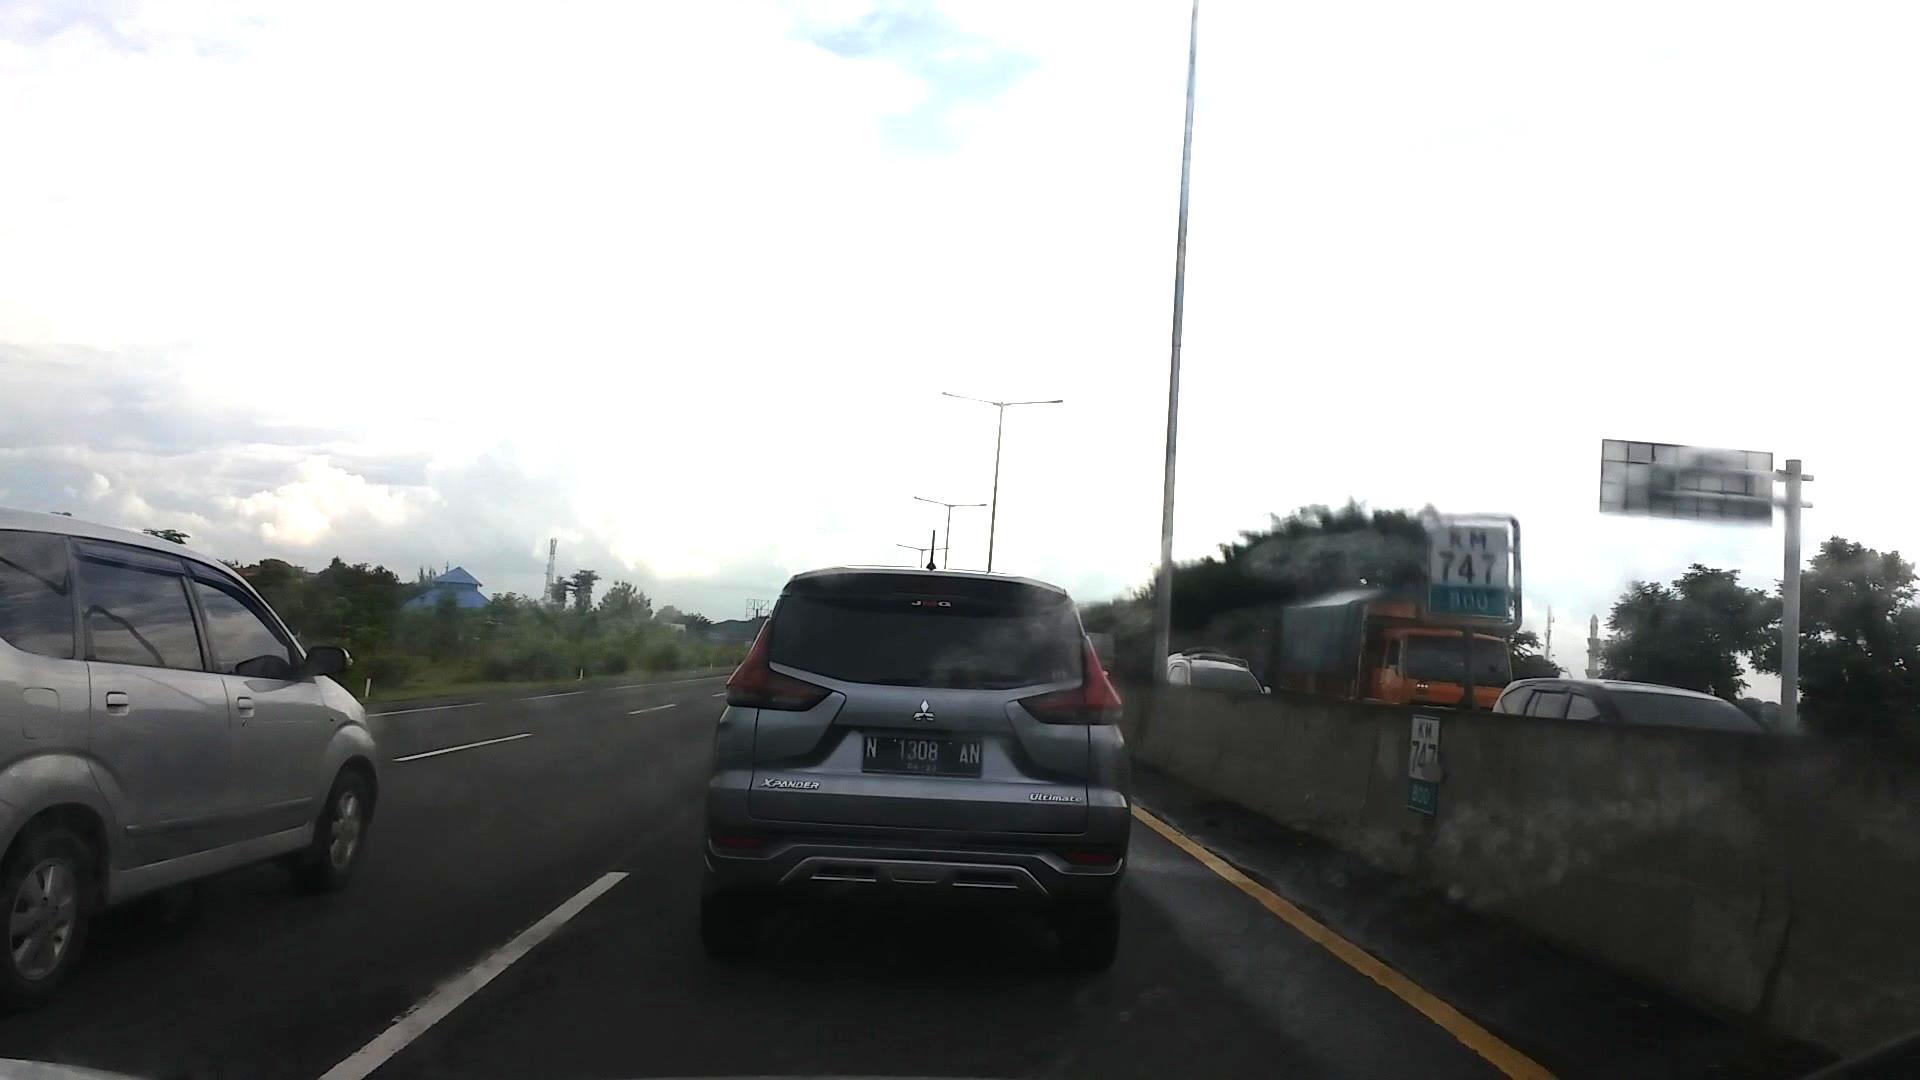plate_positive: (862, 735, 982, 778)
